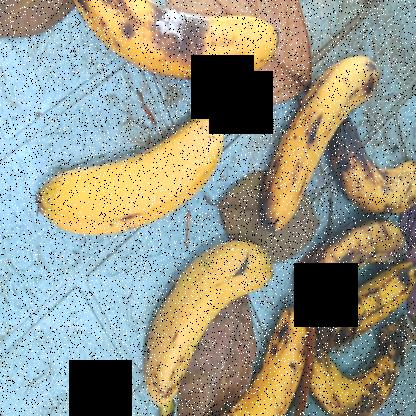freshripe: (0, 99, 224, 256), (130, 240, 273, 406)
ripe: (255, 44, 379, 238), (222, 306, 308, 415)
rotten: (76, 0, 282, 93), (310, 261, 415, 356), (302, 218, 406, 303), (329, 130, 416, 214), (306, 336, 398, 412)
